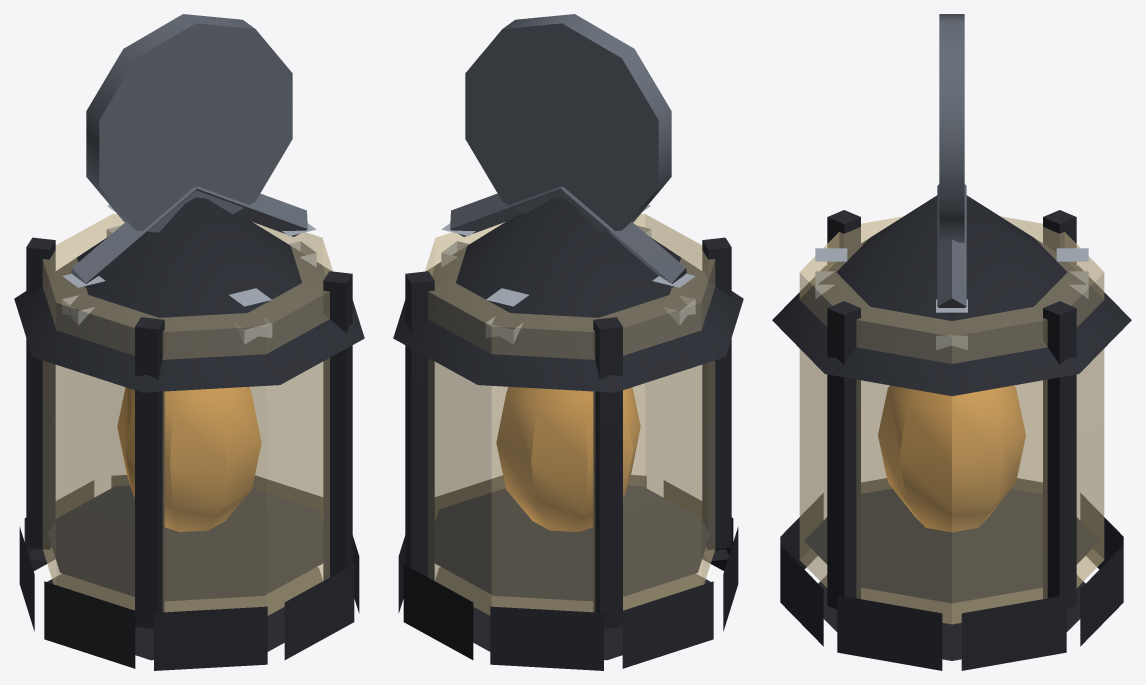
Rendered from item_lantern.glb.
3 views of the same model, side by side, from view 1: azimuth 30°, elevation 25°; view 2: azimuth 150°, elevation 25°; view 3: azimuth 270°, elevation 25° (orthographic).
Parts seen in each view (by area): view 1: item_lantern, item_lantern_detail; view 2: item_lantern, item_lantern_detail; view 3: item_lantern, item_lantern_detail.
Boxes of the visible parts, x1,y1,x2,y2 form: item_lantern: (14,14,364,670); item_lantern_detail: (62,205,316,344); item_lantern: (393,14,743,670); item_lantern_detail: (441,205,695,344); item_lantern: (772,14,1131,670); item_lantern_detail: (815,248,1088,350).
Size of the model in its own units: 0.17 by 0.3 by 0.17.
